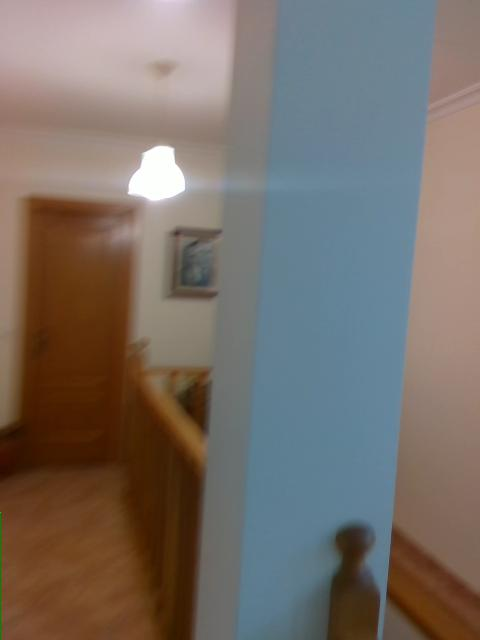door: (36, 210, 125, 454)
